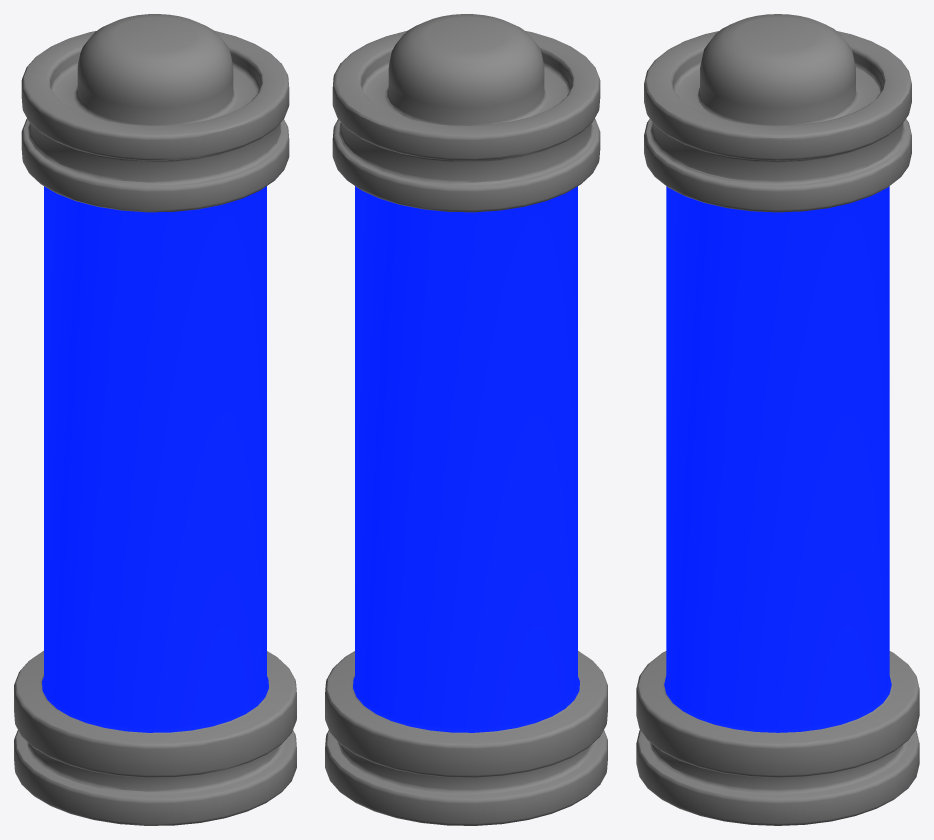
The model's file is Science_vial_blue.fbx.
3 views of the same model, side by side, from view 1: azimuth 30°, elevation 25°; view 2: azimuth 150°, elevation 25°; view 3: azimuth 270°, elevation 25° (orthographic).
Parts seen in each view (by area): view 1: Cylinder; view 2: Cylinder; view 3: Cylinder.
Part boxes in pixels (x1,y1,x2,y2): Cylinder: (14,14,296,825); Cylinder: (325,14,607,825); Cylinder: (636,14,919,825).
Size of the model in its own units: 99.73 by 285 by 99.73.
